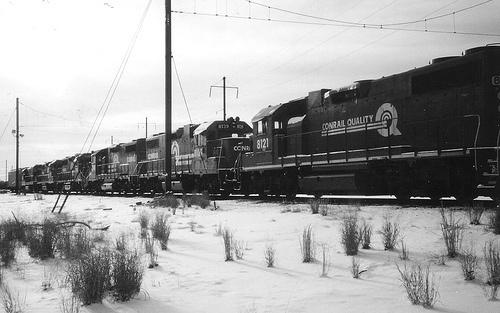train: (1, 40, 496, 203)
